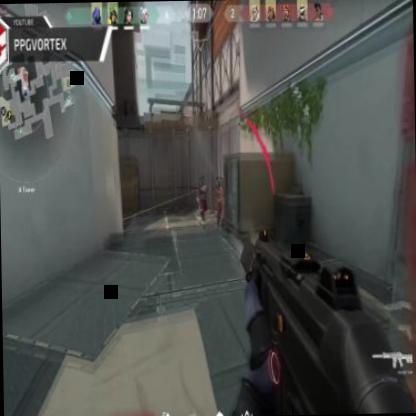enemy: (199, 176, 207, 219), (216, 177, 223, 222), (234, 202, 235, 204)
enemy_head: (216, 178, 222, 188), (200, 177, 204, 186)
